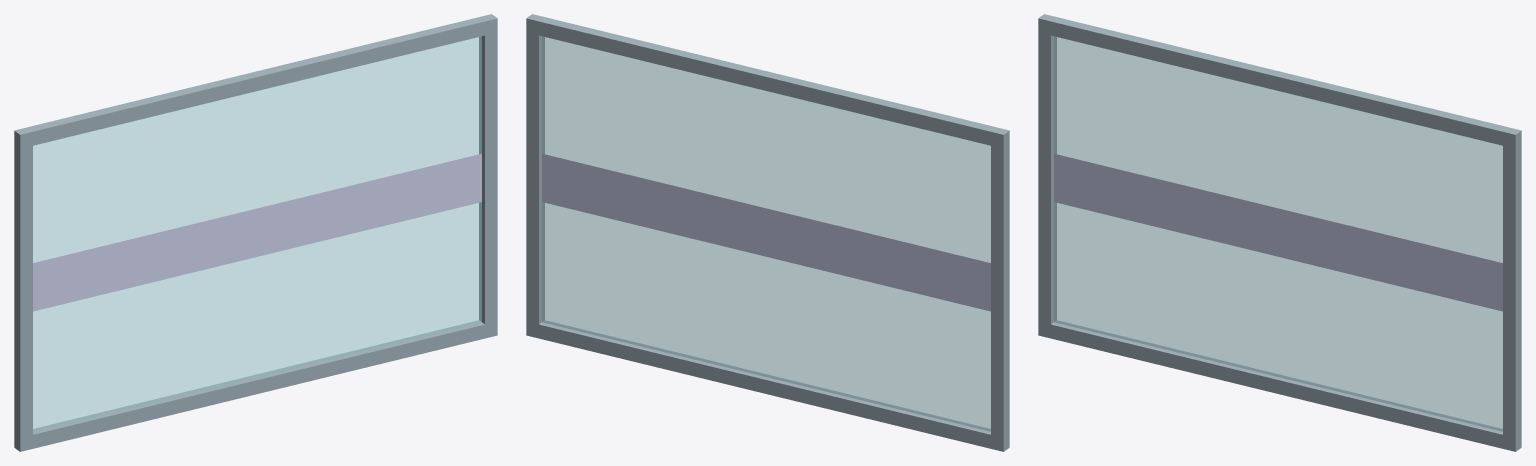
File: Door_Sliding_geo.fbx
3 views of the same model, side by side, from view 1: azimuth 30°, elevation 25°; view 2: azimuth 150°, elevation 25°; view 3: azimuth 330°, elevation 25° (orthographic).
Visible parts, largest first — view 1: Door_Sliding_geo; view 2: Door_Sliding_geo; view 3: Door_Sliding_geo.
Part boxes in pixels (<box>): Door_Sliding_geo: <box>14,14,497,451</box>; Door_Sliding_geo: <box>526,14,1009,451</box>; Door_Sliding_geo: <box>1038,14,1521,451</box>.
Size of the model in its own units: 3.18 by 0.0691 by 2.02.
